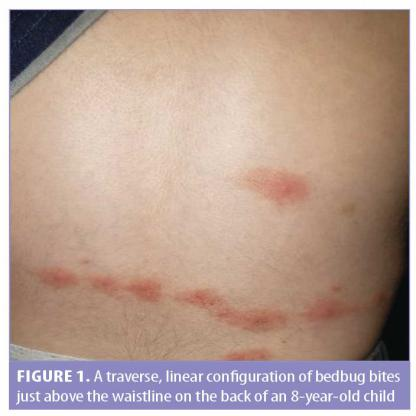Bed Bug: (26, 262, 166, 312), (175, 284, 291, 337), (234, 158, 322, 218), (300, 278, 387, 334), (209, 340, 286, 362)
